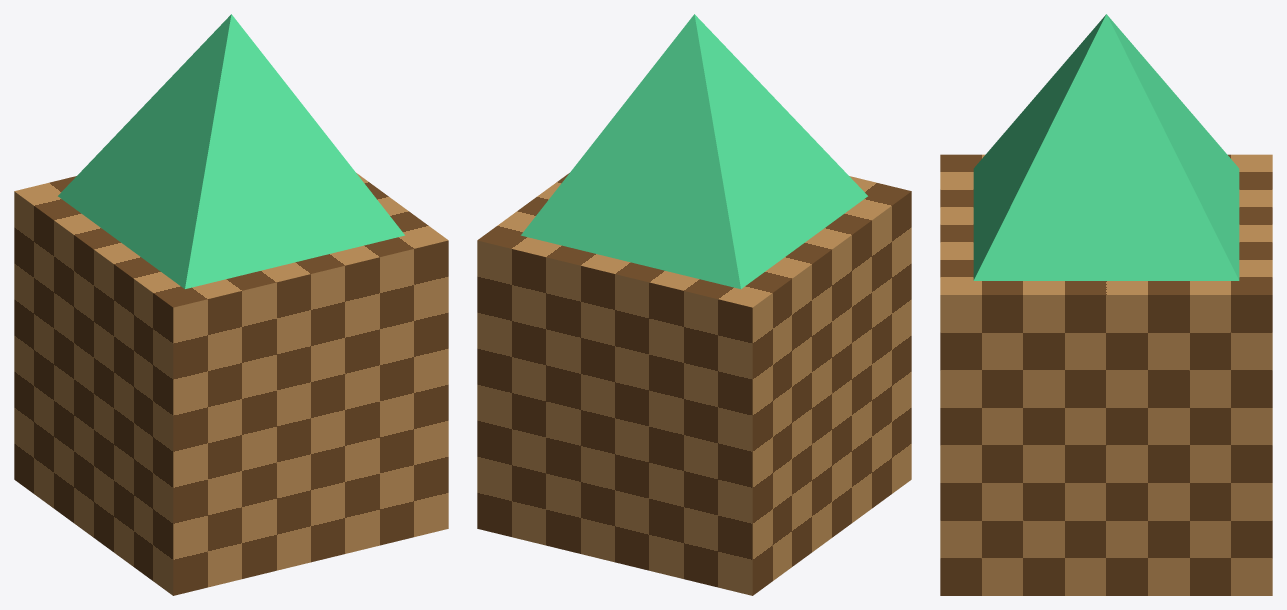
The model's file is crate.glb.
3 renders of one model, left to right at view 1: azimuth 30°, elevation 25°; view 2: azimuth 150°, elevation 25°; view 3: azimuth 270°, elevation 25°, orthographic. The views are drawn at different scales.
Visible parts, largest first — view 1: crate, gem; view 2: crate, gem; view 3: crate, gem.
Boxes of the visible parts, x1=… form: crate: x1=14, y1=173, x2=448, y2=595; gem: x1=58, y1=14, x2=404, y2=288; crate: x1=477, y1=173, x2=911, y2=595; gem: x1=521, y1=14, x2=867, y2=288; crate: x1=940, y1=154, x2=1272, y2=595; gem: x1=973, y1=14, x2=1239, y2=280.
Bounding box in the file's own units: 1 × 1.7 × 1.
2 materials, 1 textured.
